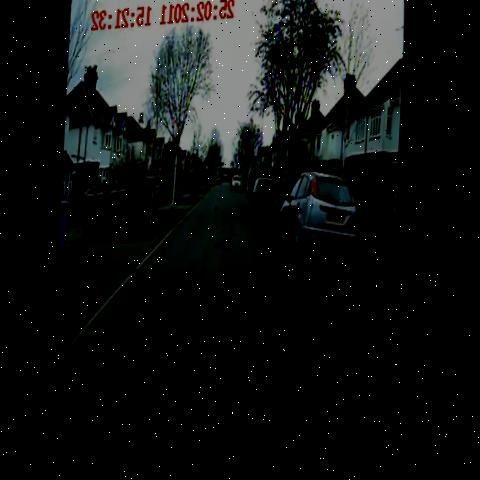pothole: (222, 250, 252, 288), (219, 285, 245, 323), (216, 228, 245, 259), (214, 201, 225, 221)
